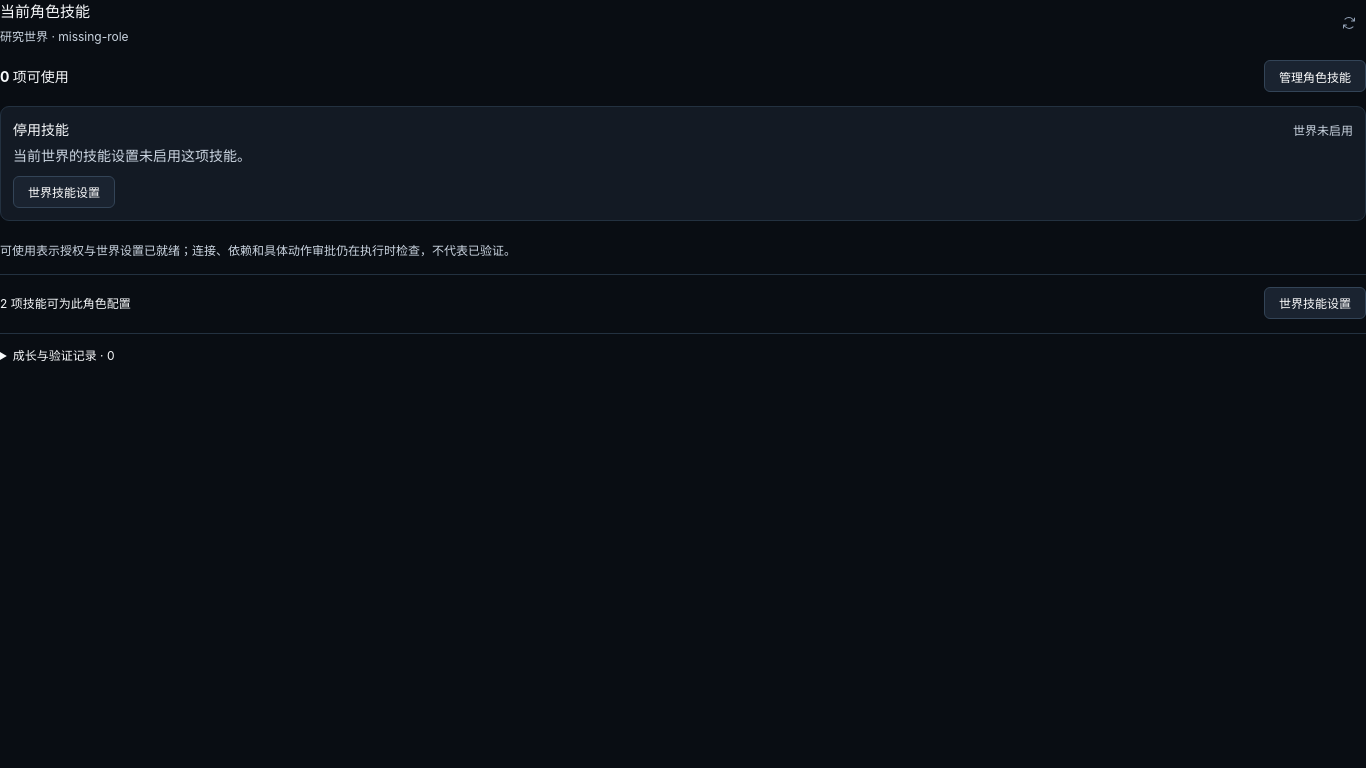
Test: EmployeeSkillsPanel › does not fall back to global settings when a requested world is missing
Click the button "世界技能设置" below "当前世界的技能设置未启用这项技能。".
click(64, 192)  # box [13,176,115,208]
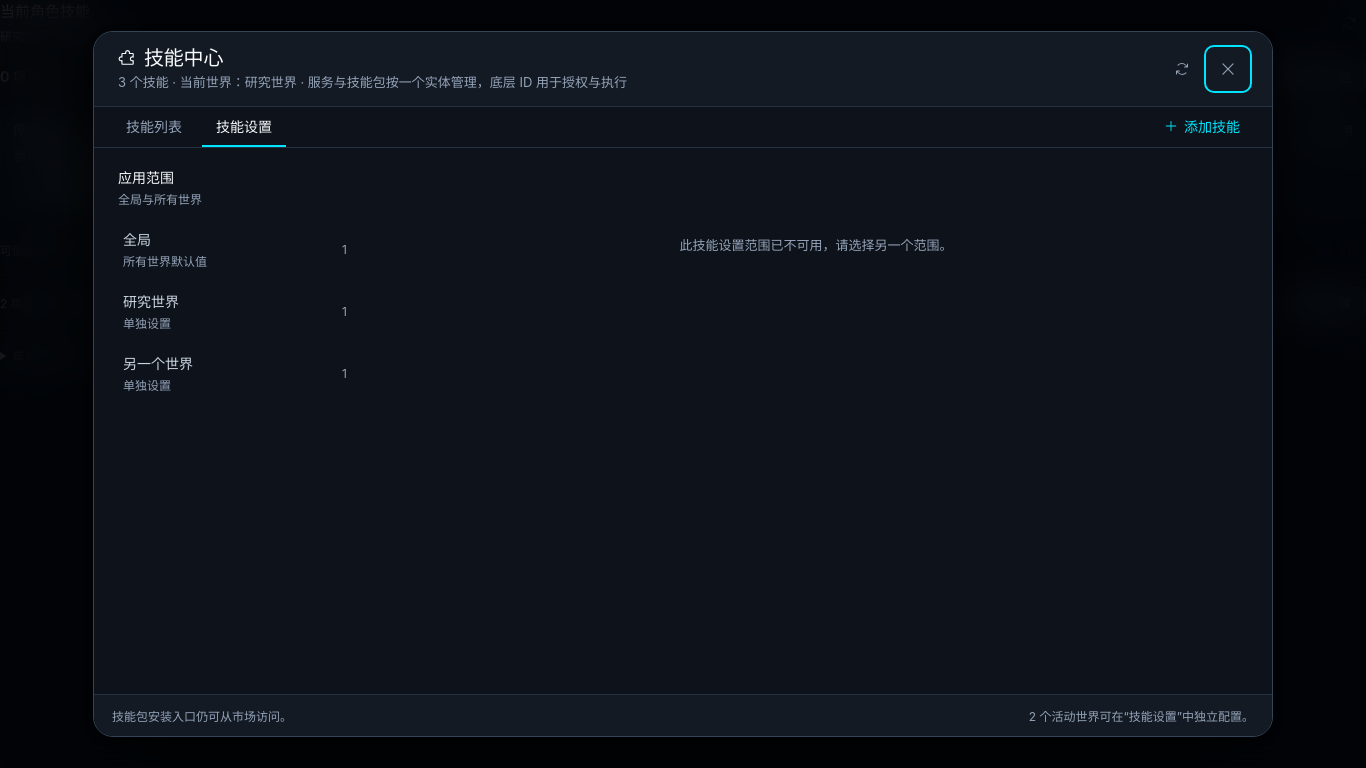
Check: the dialog is shown
Check: the text "此技能设置范围已不可用" is shown, box [680,237,952,253]
